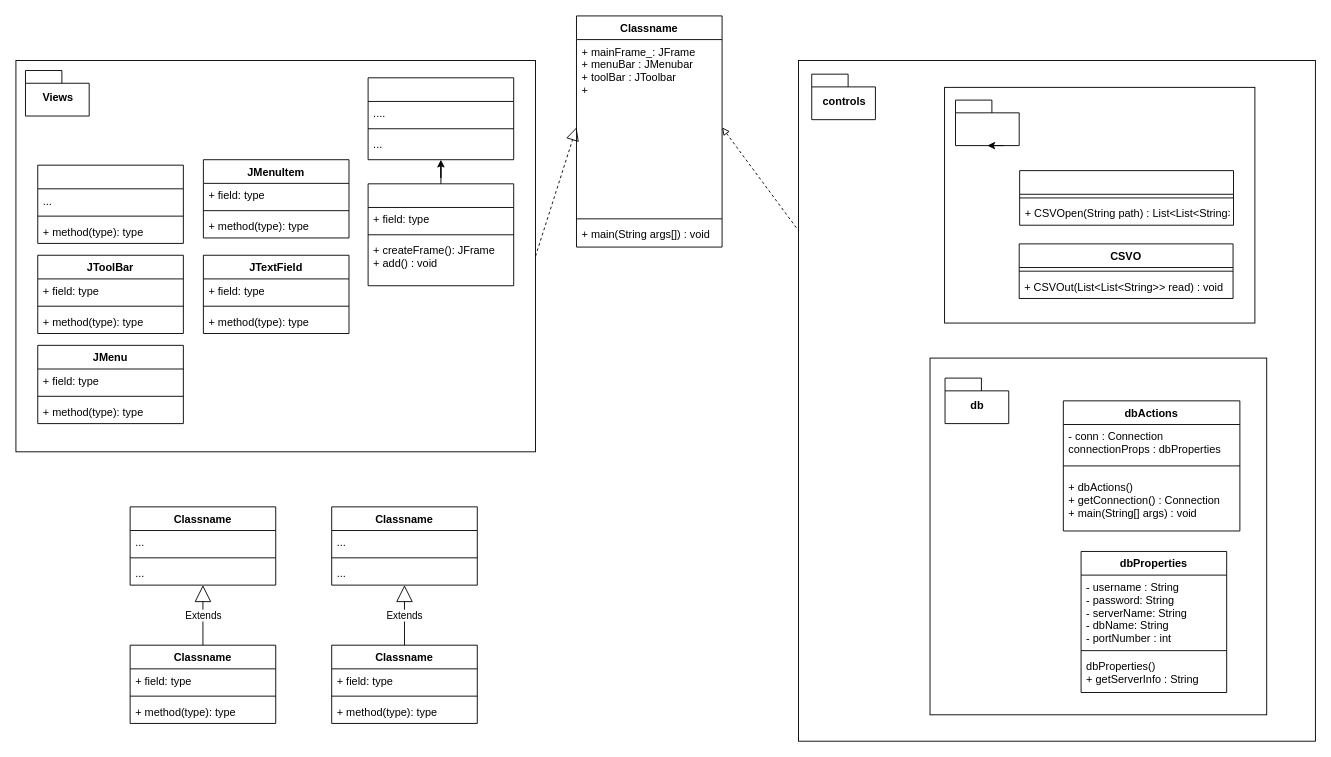
This 1331x757 diagram has some shape labels left out. The shapes that lost their labels are listed below. From the top down, each one's box as (x1, y1, x2, y2) in pixels, then its label:
(367, 77, 514, 160): JFrame
(955, 99, 1019, 146): CSVIO
(37, 164, 183, 243): JMenuBar
(1019, 170, 1234, 225): CSVI
(367, 183, 514, 286): mainFrame
